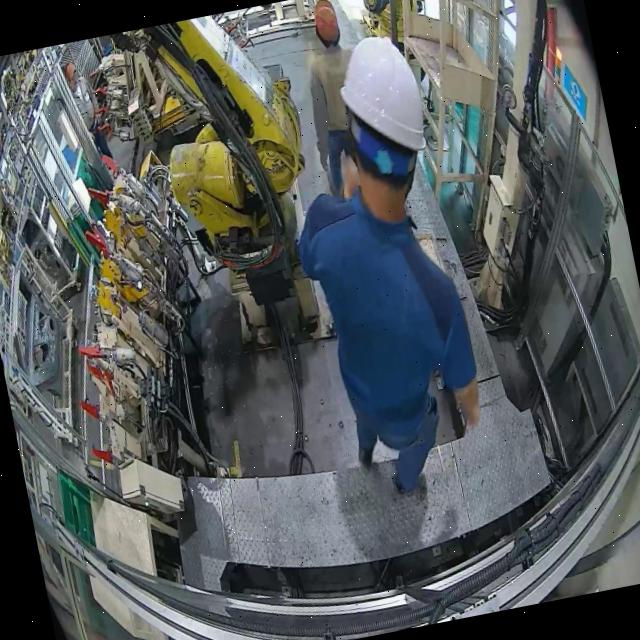Person: (258, 28, 498, 506), (289, 0, 382, 202), (61, 56, 114, 166)
